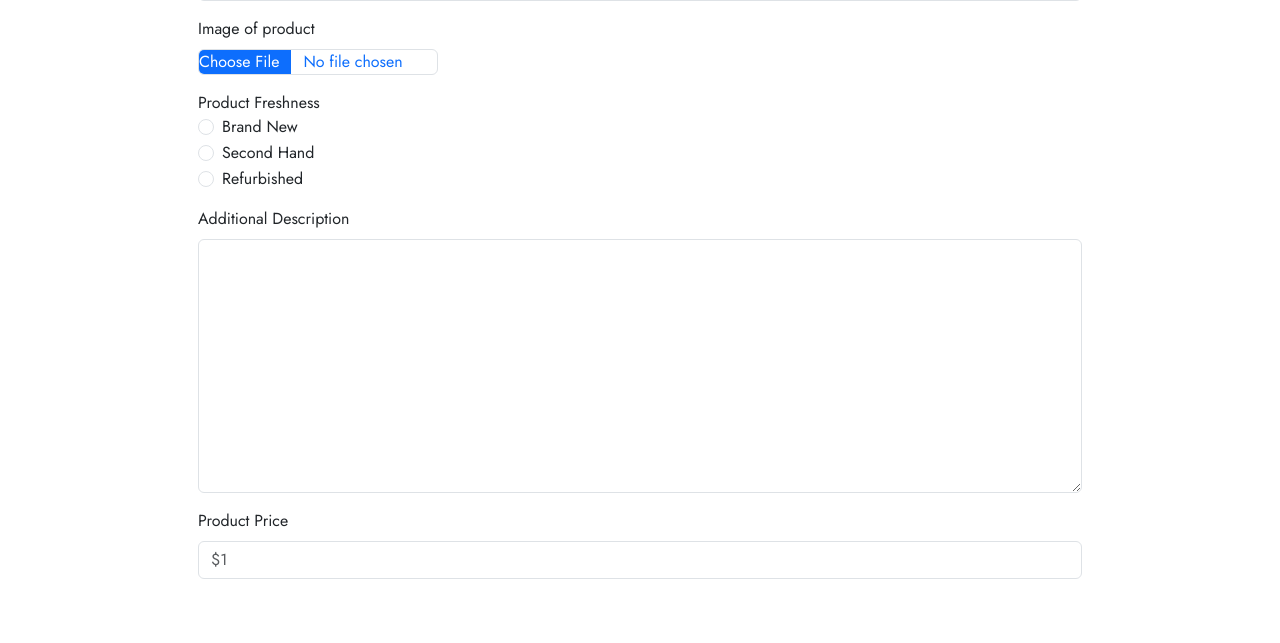
Test: should handle product price change and show error for invalid price
(page scrolled)
# Simulate entering an invalid product price
Type "-10" into the number field labelled "Product Price" at [640, 560], box top-left (198, 541), bottom-right (1082, 579)
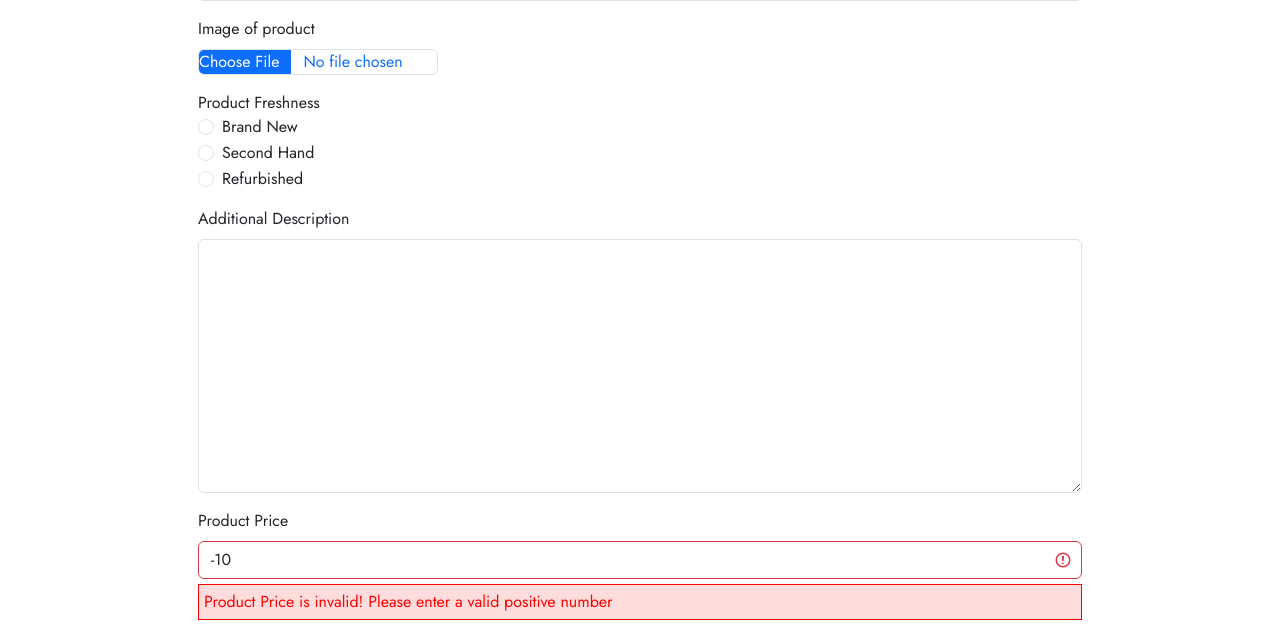
Expected: the text "Product Price is invalid! Please enter a valid positive number" is shown, top-left (198, 584), bottom-right (1082, 620)
